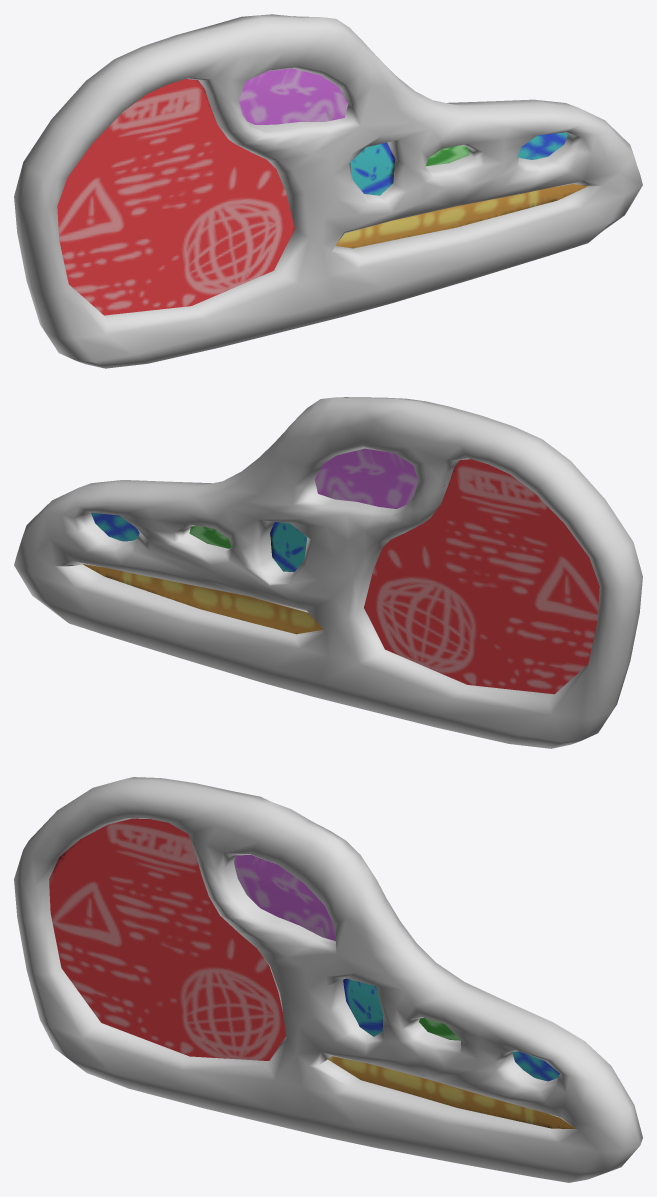
File: SM_Panel_001.fbx
The picture shows the model from 3 angles, top to bottom: view 1: azimuth 30°, elevation 25°; view 2: azimuth 150°, elevation 25°; view 3: azimuth 330°, elevation 25°; orthographic projection.
Parts seen in each view (by area): view 1: pPlane2; view 2: pPlane2; view 3: pPlane2.
Boxes of the visible parts, x1,y1,x2,y2 form: pPlane2: (14,14,642,368); pPlane2: (14,397,642,748); pPlane2: (14,777,642,1182).
Bounding box in the file's own units: 14.1 × 6.87 × 1.
2 materials, 1 textured.
